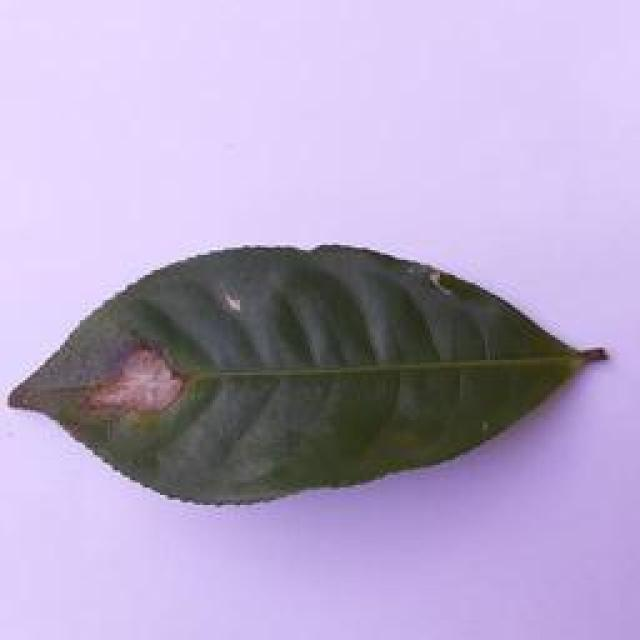Gray Blight: (8, 237, 616, 510)
